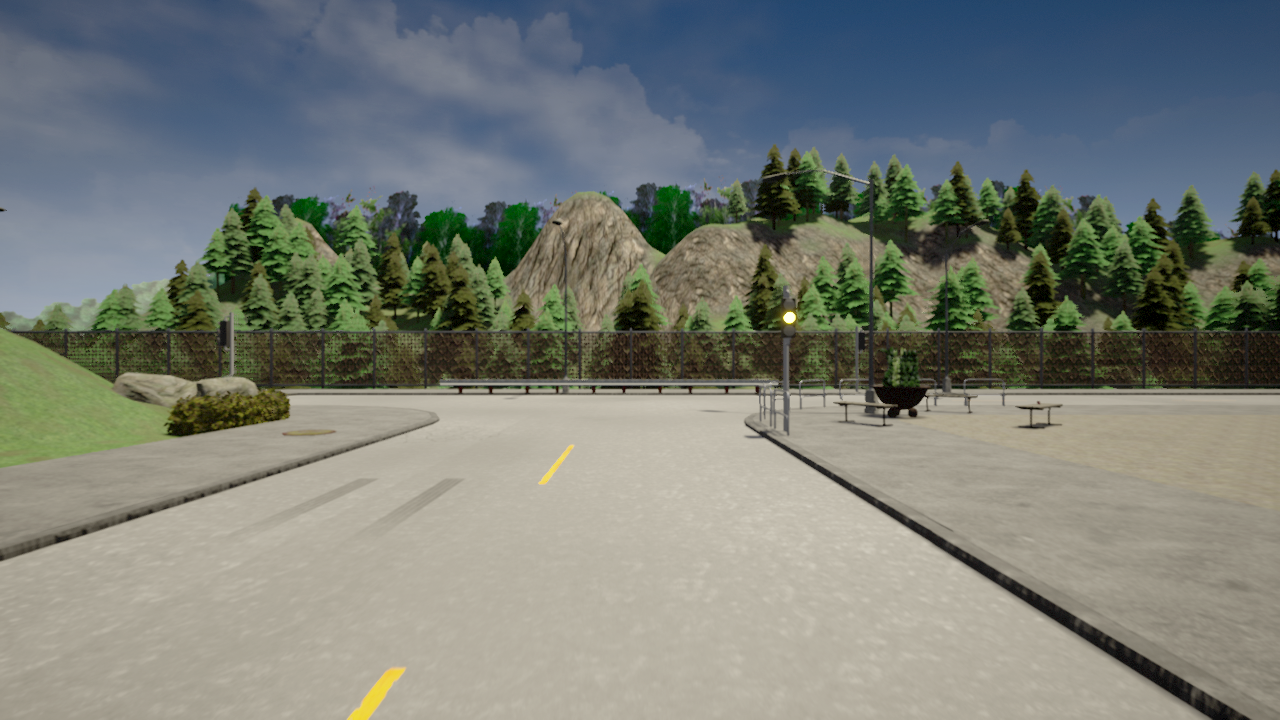yellow: (780, 297, 797, 337)
